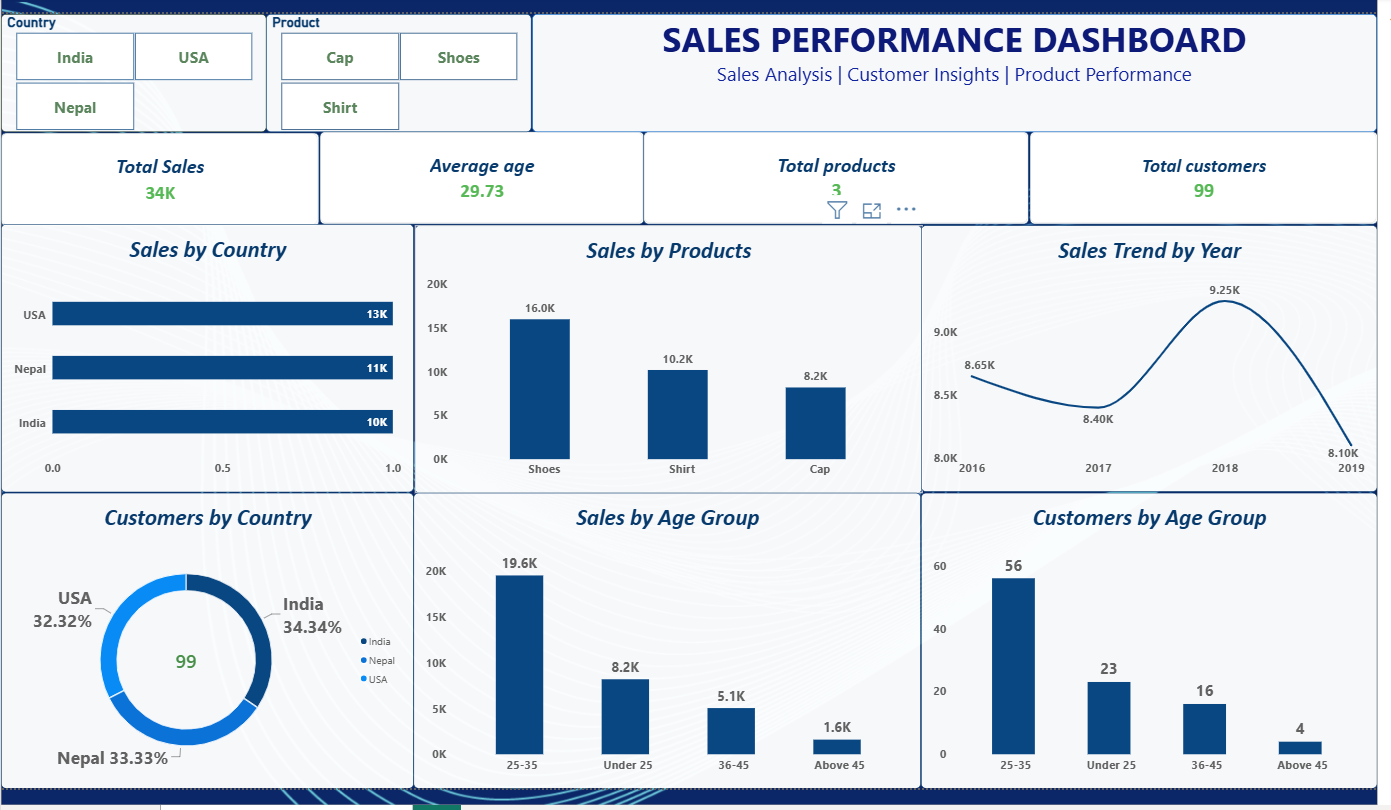

Layout of this report page (visuals, bound fields, positions):
{"tool":"powerbi","page":{"name":"sales performance dashboard","canvas":[1920,1080],"ordinal":0},"visuals":[{"type":"cardVisual","title":"Total sales","fields":{"Data":["AnalystAssistantHiringProcess_A.Total Sales"]},"box":[0,165.1,443.9,130.2],"z":0},{"type":"cardVisual","fields":{"Data":["AnalystAssistantHiringProcess_A.Average age"]},"box":[444.6,164.7,452.8,129.7],"z":1},{"type":"cardVisual","fields":{"Data":["AnalystAssistantHiringProcess_A.Total products"]},"box":[896.9,163.2,537.2,129.7],"z":2},{"type":"cardVisual","fields":{"Data":["AnalystAssistantHiringProcess_A.Total customers"]},"box":[1434.7,164.7,485.8,129.7],"z":3},{"type":"clusteredColumnChart","title":"Sales by Products","fields":{"Category":["AnalystAssistantHiringProcess_A. Product"],"Y":["AnalystAssistantHiringProcess_A.Total Sales"]},"box":[576.7,295,708,374.2],"z":4},{"type":"clusteredBarChart","title":"Sales by Country","fields":{"Category":["AnalystAssistantHiringProcess_A. Country"],"Y":["AnalystAssistantHiringProcess_A.Total Sales"]},"box":[0,293.5,576,374.2],"z":5},{"type":"donutChart","title":"Customers by Country","fields":{"Category":["AnalystAssistantHiringProcess_A. Country"],"Y":["AnalystAssistantHiringProcess_A.Total customers"]},"box":[0,667.7,576,412.7],"z":6},{"type":"clusteredColumnChart","title":"Customers by Age Group","fields":{"Category":["AnalystAssistantHiringProcess_A.Age Group"],"Y":["CountNonNull(AnalystAssistantHiringProcess_A.CustomerCode)"]},"box":[1284,667.7,636.5,412.7],"z":7},{"type":"clusteredColumnChart","title":"Sales by Age Group","fields":{"Category":["AnalystAssistantHiringProcess_A.Age Group"],"Y":["Sum(AnalystAssistantHiringProcess_A. Amount)"]},"box":[576,668,708,412.7],"z":8},{"type":"lineChart","title":"Sales Trend by Year","fields":{"Category":["LocalDateTable_8cd2e976-5810-4c6c-ab5d-fab60b268df8.Year"],"Y":["Sum(AnalystAssistantHiringProcess_A. Amount)"]},"box":[1284,295.3,636.5,372.4],"z":9},{"type":"slicer","fields":{"Values":["AnalystAssistantHiringProcess_A. Country"]},"box":[0,0,370.5,165.1],"z":10},{"type":"slicer","fields":{"Values":["AnalystAssistantHiringProcess_A. Product"]},"box":[370.5,0,370.5,165.1],"z":11},{"type":"textbox","box":[741.7,0,1178.3,165],"z":12}]}

Visuals, with their boxes in screenshot pixels (x1, y1, x2, y2):
"Total sales" cardVisual: 0, 129, 317, 222
cardVisual - AnalystAssistantHiringProcess_A.Average age: 318, 129, 641, 221
cardVisual - AnalystAssistantHiringProcess_A.Total products: 641, 127, 1025, 220
cardVisual - AnalystAssistantHiringProcess_A.Total customers: 1025, 129, 1372, 221
"Sales by Products" clusteredColumnChart: 412, 222, 918, 489
"Sales by Country" clusteredBarChart: 0, 221, 412, 488
"Customers by Country" donutChart: 0, 488, 412, 783
"Customers by Age Group" clusteredColumnChart: 917, 488, 1372, 783
"Sales by Age Group" clusteredColumnChart: 412, 488, 917, 783
"Sales Trend by Year" lineChart: 917, 222, 1372, 488
slicer - AnalystAssistantHiringProcess_A. Country: 0, 11, 265, 129
slicer - AnalystAssistantHiringProcess_A. Product: 265, 11, 529, 129
textbox: 530, 11, 1372, 129
